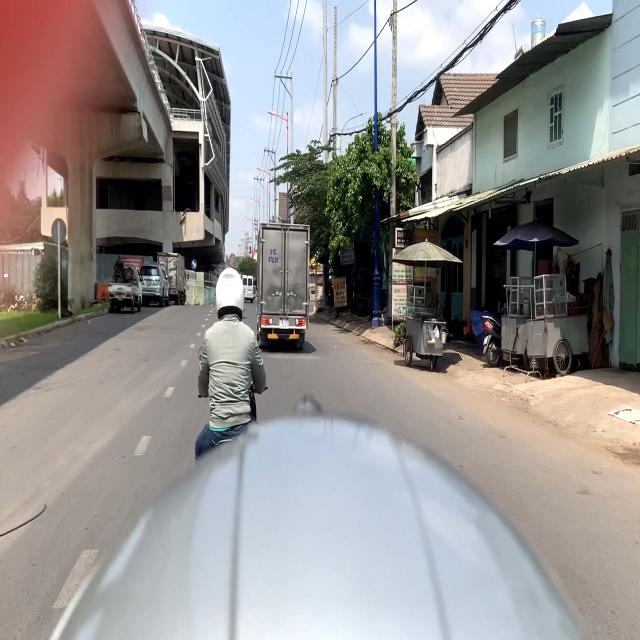R.302a: (191, 258, 197, 270)
